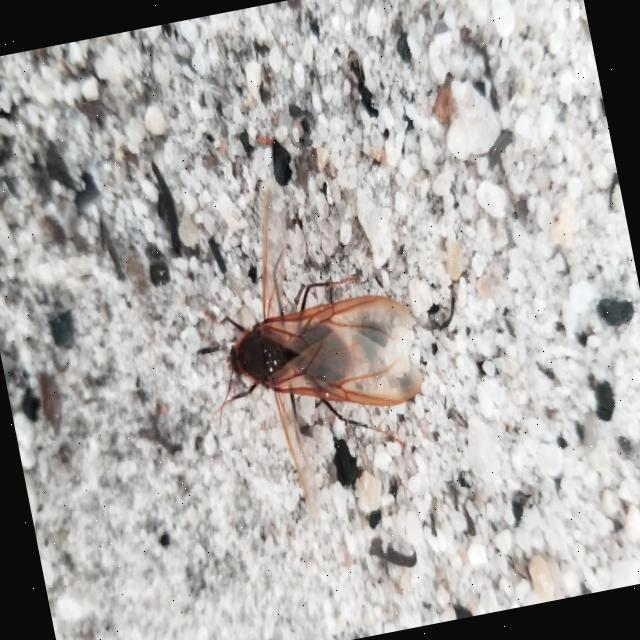Alive-Male-Alate: (168, 153, 450, 534)
